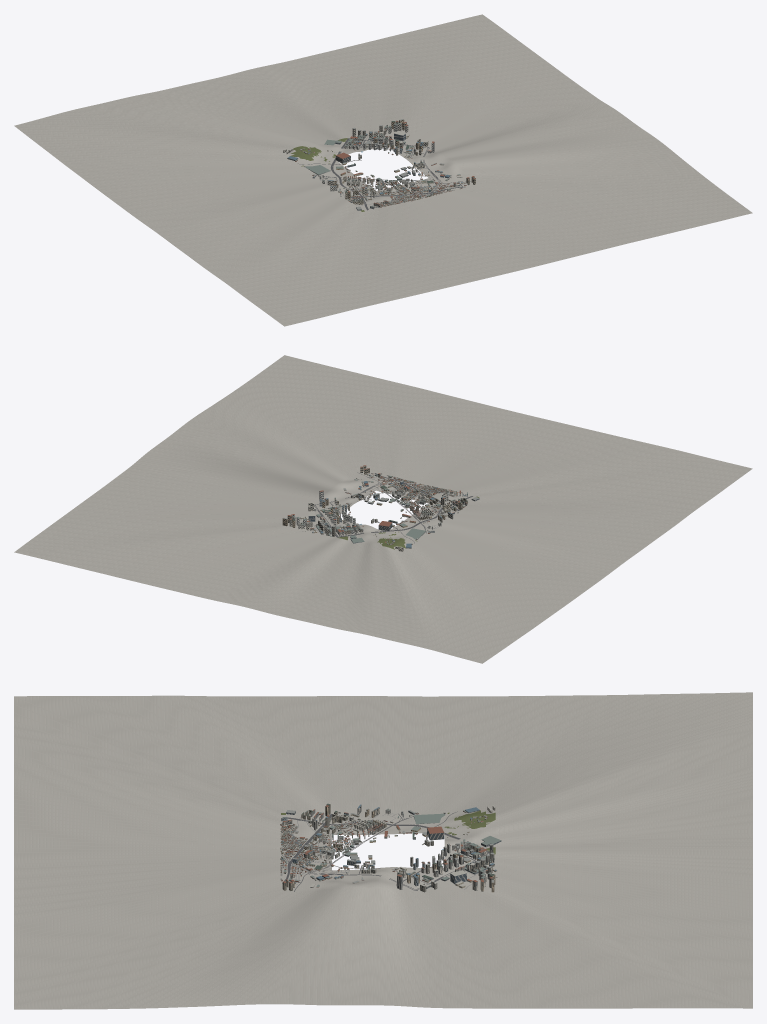
3 renders of one model, top to bottom at view 1: azimuth 30°, elevation 25°; view 2: azimuth 150°, elevation 25°; view 3: azimuth 270°, elevation 25°, orthographic. The views are drawn at different scales.
Visible parts, largest first — view 1: ctx-ground, ctx-buildings, ctx-roads; view 2: ctx-ground, ctx-buildings, ctx-roads; view 3: ctx-ground, ctx-buildings, ctx-roads.
Part boxes in pixels (left/top/right/bottom): ctx-ground: left=14, top=14, right=752, bottom=326; ctx-buildings: left=283, top=119, right=475, bottom=210; ctx-roads: left=298, top=138, right=470, bottom=210; ctx-ground: left=14, top=355, right=752, bottom=663; ctx-buildings: left=282, top=465, right=479, bottom=551; ctx-roads: left=314, top=472, right=472, bottom=543; ctx-ground: left=14, top=692, right=752, bottom=1009; ctx-buildings: left=280, top=803, right=501, bottom=892; ctx-roads: left=281, top=811, right=489, bottom=891.
Size of the model in its own units: 7600 by 186 by 7600.
Materials: 25 (18 with a texture image).
